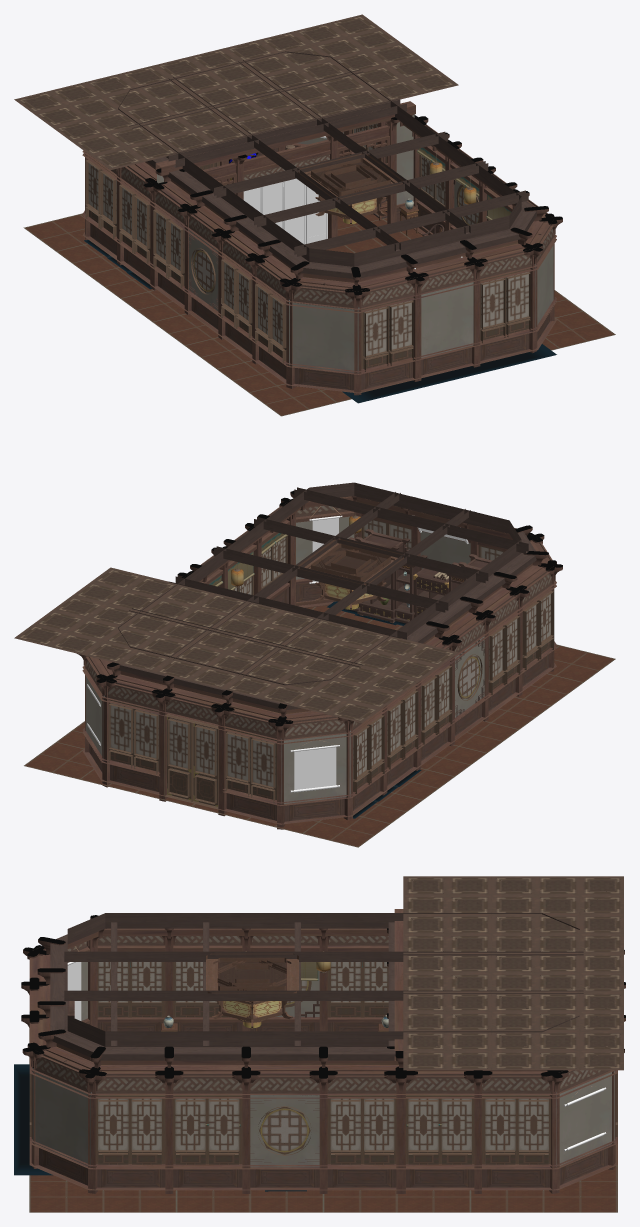
File: IndoorScene_Ly_Liuliting.fbx
The picture shows the model from 3 angles, top to bottom: view 1: azimuth 30°, elevation 25°; view 2: azimuth 150°, elevation 25°; view 3: azimuth 270°, elevation 25°; orthographic projection. The views are drawn at different scales.
Parts seen in each view (by area): view 1: Indoor_Ly_Build_Liuliting_01_Vo, Indoor_Ly_Prop_Pillar_01_Vo (×11), Area_Ly_Prop_Common_Screen_01_Vo, Indoor_Ly_Light_Common_03_Vo (4), Indoor_MDBuild_Ao04 (31), Indoor_Ly_Light_Common_07_Lod0; view 2: Indoor_Ly_Build_Liuliting_01_Vo, Indoor_Ly_Prop_Pillar_01_Vo (×10), Indoor_Ly_Prop_Cupboard_02_Lod0, Indoor_Ly_Light_Common_03_Vo (4), Area_Ly_Prop_Common_Draw_05_Vo, Indoor_Ly_Prop_Cupboard_04_Lod0, Indoor_Ly_Light_Common_07_Lod0, Area_Ly_Prop_Common_Draw_01_Vo; view 3: Indoor_Ly_Build_Liuliting_01_Vo, Indoor_Ly_Prop_Pillar_01_Vo (×14), Indoor_Ly_Light_Common_03_Vo (4), Indoor_MDBuild_Ao04 (31), Indoor_Ly_Light_Common_07_Lod0, Area_Ly_Prop_Common_Draw_02_Vo.
Part boxes in pixels (left/top/right/bottom): Indoor_Ly_Build_Liuliting_01_Vo: left=14, top=14, right=615, bottom=416; Indoor_Ly_Prop_Pillar_01_Vo (×11): left=143, top=132, right=562, bottom=395; Area_Ly_Prop_Common_Screen_01_Vo: left=243, top=178, right=327, bottom=244; Indoor_Ly_Light_Common_03_Vo (4): left=298, top=153, right=403, bottom=199; Indoor_MDBuild_Ao04 (31): left=342, top=344, right=556, bottom=403; Indoor_Ly_Light_Common_07_Lod0: left=315, top=192, right=386, bottom=224; Indoor_Ly_Build_Liuliting_01_Vo: left=14, top=482, right=615, bottom=847; Indoor_Ly_Prop_Pillar_01_Vo (×10): left=96, top=490, right=562, bottom=829; Indoor_Ly_Prop_Cupboard_02_Lod0: left=344, top=529, right=427, bottom=623; Indoor_Ly_Light_Common_03_Vo (4): left=298, top=539, right=403, bottom=585; Area_Ly_Prop_Common_Draw_05_Vo: left=290, top=745, right=339, bottom=792; Indoor_Ly_Prop_Cupboard_04_Lod0: left=413, top=568, right=448, bottom=617; Indoor_Ly_Light_Common_07_Lod0: left=315, top=578, right=386, bottom=609; Area_Ly_Prop_Common_Draw_01_Vo: left=309, top=515, right=342, bottom=583; Indoor_Ly_Build_Liuliting_01_Vo: left=29, top=876, right=623, bottom=1212; Indoor_Ly_Prop_Pillar_01_Vo (×14): left=21, top=915, right=568, bottom=1193; Indoor_Ly_Light_Common_03_Vo (4): left=206, top=953, right=298, bottom=993; Indoor_MDBuild_Ao04 (31): left=14, top=1064, right=52, bottom=1175; Indoor_Ly_Light_Common_07_Lod0: left=212, top=1001, right=292, bottom=1028; Area_Ly_Prop_Common_Draw_02_Vo: left=67, top=962, right=81, bottom=1020.
Size of what is drawn, in the model's own units: 14.22 by 5.12 by 18.94.
